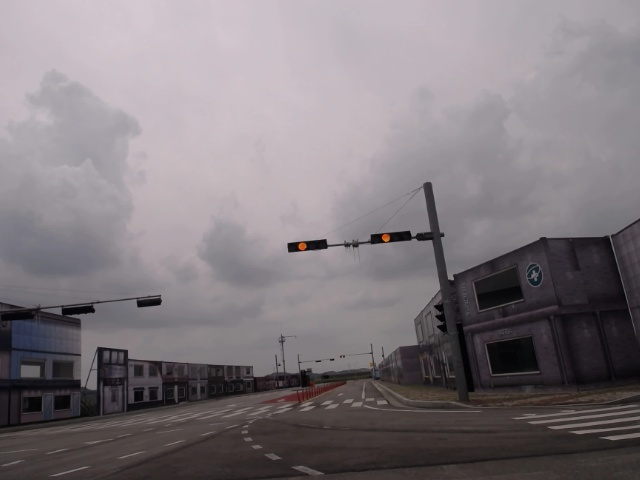orange_4: (367, 230, 414, 246), (284, 239, 329, 254)
